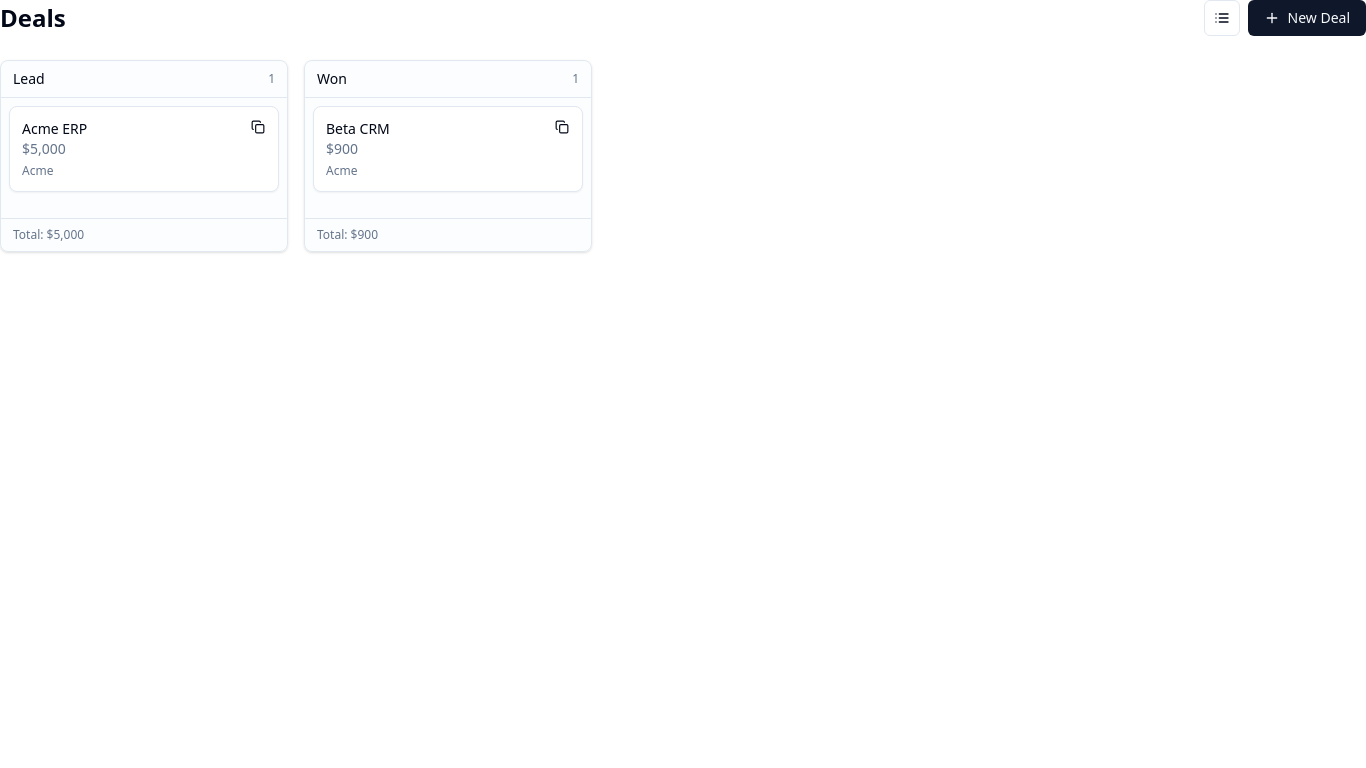
Test: Duplicating a deal from the deals page › creates the copy and stays on the list, which refreshes
Expected: the text "Acme ERP" is shown, [22,119,87,139]
Click the button named "Duplicate deal: Acme ERP" at x=258, y=127, box [246,115,270,139]
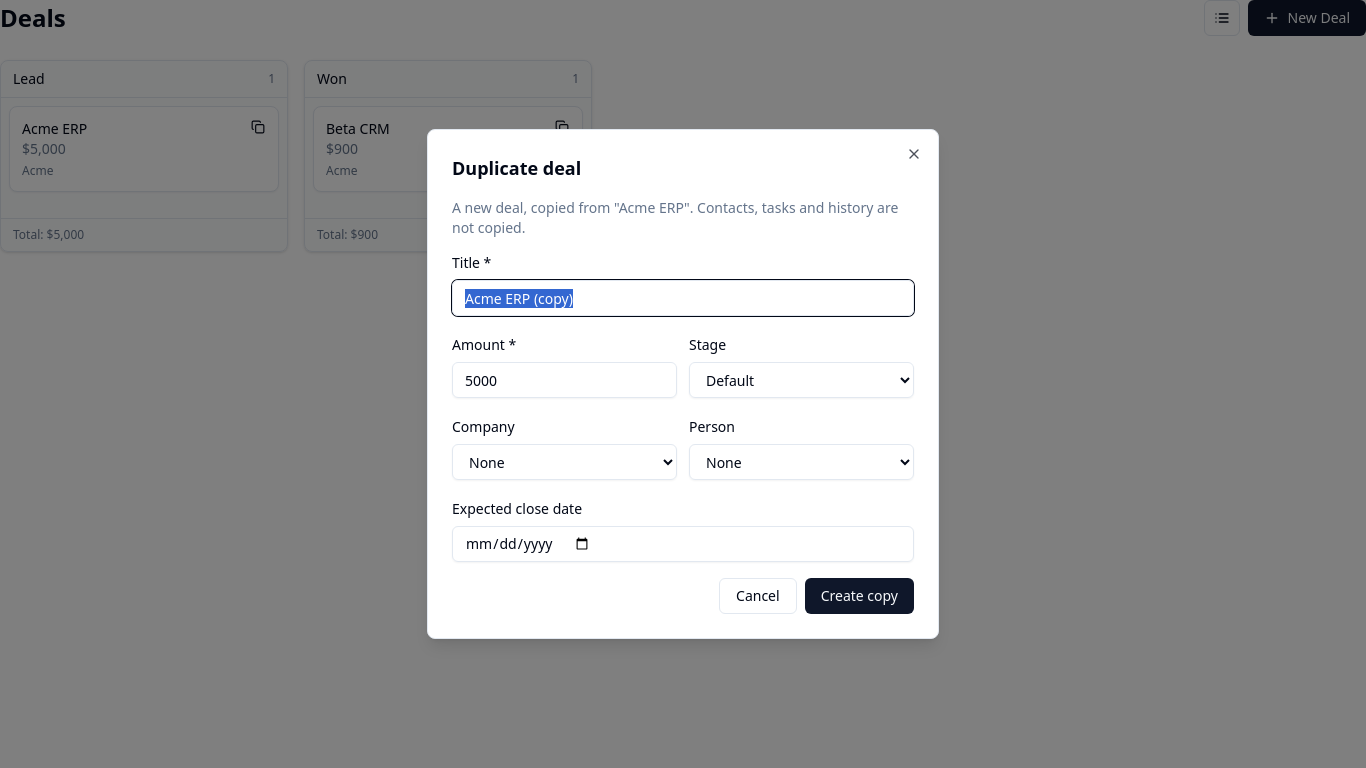
Now the field labelled "Title *" is shown, box [452,280,914,316]
Type keys "Acme ERP renewal{Enter}"
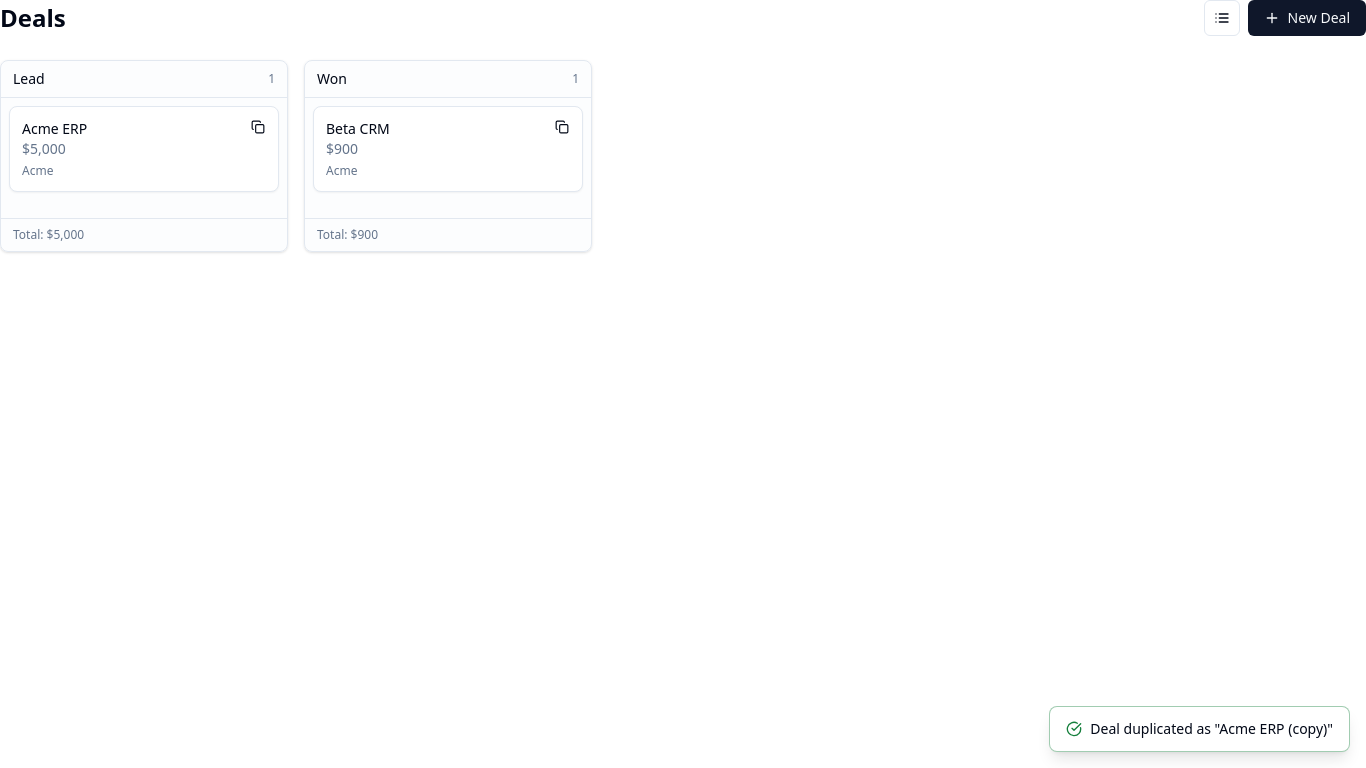
Expected: the heading "Deals" is shown, [0,2,66,34]
Now the label labelled "Title *" is gone
